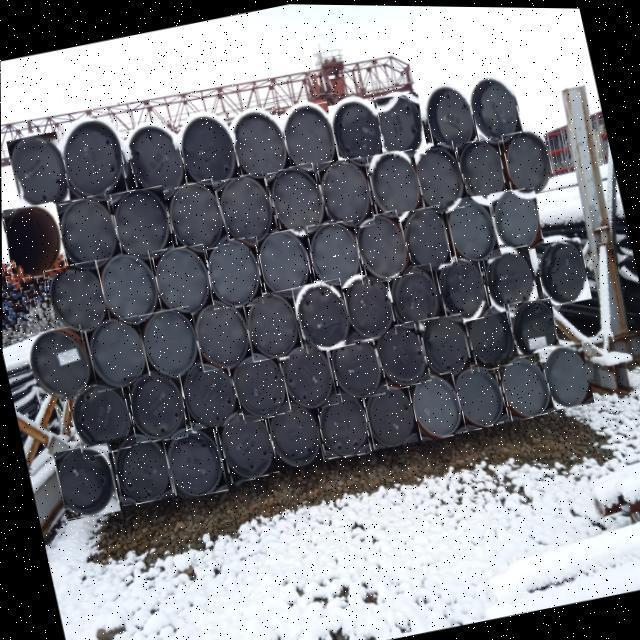pipe: (59, 117, 128, 204), (6, 130, 76, 215), (51, 193, 123, 274), (65, 378, 137, 458), (23, 324, 94, 402), (122, 119, 189, 199), (226, 105, 293, 185), (161, 177, 229, 255), (43, 259, 110, 338), (175, 111, 240, 192), (264, 161, 330, 239), (95, 250, 162, 326), (214, 170, 279, 248), (226, 347, 293, 422), (161, 423, 227, 499), (53, 443, 119, 519), (84, 315, 150, 391), (109, 185, 174, 262), (137, 305, 202, 379), (214, 407, 278, 482), (2, 204, 65, 280), (350, 208, 413, 283), (291, 277, 354, 352), (190, 297, 253, 371), (110, 432, 173, 505), (177, 357, 239, 430), (152, 243, 214, 316), (409, 140, 470, 214), (280, 101, 340, 175), (277, 340, 338, 412), (126, 369, 186, 442), (242, 288, 302, 360), (449, 359, 509, 430), (406, 369, 466, 440), (371, 319, 431, 389), (433, 251, 491, 323), (443, 192, 501, 264), (326, 329, 384, 401), (317, 157, 374, 230), (481, 243, 540, 313), (465, 72, 523, 143), (366, 148, 424, 219), (385, 261, 443, 332), (255, 227, 313, 298), (205, 236, 263, 307), (328, 96, 385, 168), (421, 80, 478, 152), (495, 351, 554, 420), (265, 399, 323, 469), (306, 220, 362, 290), (462, 302, 519, 370), (360, 379, 417, 447), (534, 236, 590, 305), (341, 271, 396, 340), (315, 390, 370, 458), (501, 127, 555, 196), (399, 203, 452, 273), (418, 312, 472, 379), (539, 341, 592, 408), (489, 187, 542, 252), (456, 136, 506, 203), (376, 93, 426, 159), (508, 297, 558, 357), (5, 276, 11, 283), (9, 277, 14, 284), (41, 317, 46, 323), (49, 312, 54, 318), (45, 307, 50, 313), (7, 327, 12, 333), (2, 334, 7, 340), (44, 297, 49, 303), (12, 288, 17, 294), (15, 282, 19, 289), (25, 314, 30, 319), (7, 301, 12, 306), (5, 296, 10, 301), (11, 262, 16, 267), (23, 277, 28, 282), (36, 290, 41, 295), (41, 323, 45, 329), (33, 324, 37, 330), (17, 331, 21, 337), (15, 302, 19, 308), (46, 279, 50, 285), (33, 291, 37, 297), (49, 321, 53, 326), (50, 319, 54, 324), (51, 317, 55, 322), (46, 314, 50, 319), (38, 313, 42, 318), (38, 308, 42, 313), (36, 299, 40, 304), (42, 292, 46, 297), (22, 320, 26, 325), (17, 317, 21, 322), (13, 334, 18, 338), (10, 335, 14, 340), (12, 330, 16, 335), (5, 331, 10, 335), (6, 339, 10, 344), (2, 329, 6, 334), (2, 307, 6, 312), (9, 308, 13, 313), (3, 300, 7, 305), (9, 291, 14, 295), (12, 294, 16, 299), (43, 285, 47, 290), (30, 284, 34, 289), (6, 282, 10, 287), (17, 277, 22, 281), (36, 278, 40, 283), (38, 326, 41, 332), (46, 325, 50, 329), (43, 310, 47, 314), (36, 305, 40, 309), (56, 319, 60, 323), (28, 324, 32, 328), (24, 326, 28, 330), (19, 324, 23, 328), (19, 329, 23, 333), (20, 335, 24, 339), (7, 315, 11, 319), (11, 313, 15, 317), (23, 314, 27, 318), (32, 307, 36, 311), (25, 305, 29, 309), (5, 305, 9, 309), (17, 300, 21, 304), (22, 301, 26, 305), (29, 304, 33, 308), (3, 290, 7, 294), (26, 291, 30, 295), (19, 268, 23, 272), (26, 295, 30, 299), (6, 292, 10, 296), (50, 308, 53, 313), (35, 309, 38, 314), (39, 299, 42, 304), (27, 320, 30, 325), (25, 329, 30, 332), (23, 332, 26, 337), (15, 324, 18, 329), (9, 319, 12, 324), (30, 311, 33, 316), (33, 287, 36, 292), (47, 284, 50, 289), (11, 274, 14, 279), (2, 262, 5, 267), (7, 268, 10, 273), (35, 329, 38, 333), (39, 320, 42, 324), (52, 323, 55, 327), (42, 303, 46, 306), (33, 297, 36, 301), (32, 316, 35, 320), (30, 322, 33, 326), (30, 328, 33, 332), (2, 338, 5, 342), (5, 324, 8, 328), (20, 312, 23, 316), (11, 304, 14, 308), (21, 297, 25, 300), (26, 300, 30, 303), (23, 291, 27, 294), (20, 273, 23, 277), (39, 281, 43, 284), (43, 277, 47, 280), (44, 281, 47, 285), (10, 339, 14, 342), (3, 267, 6, 271), (48, 299, 51, 303), (47, 294, 50, 298), (40, 290, 44, 293), (40, 294, 43, 298), (20, 288, 23, 292), (9, 310, 12, 314), (29, 308, 32, 312), (2, 280, 4, 285), (34, 320, 37, 323), (17, 321, 20, 324), (19, 305, 22, 308), (29, 299, 32, 302), (39, 286, 42, 289), (12, 284, 15, 287), (28, 275, 31, 278), (55, 320, 58, 323), (29, 333, 32, 336), (2, 293, 5, 296), (30, 318, 33, 321), (43, 322, 47, 324), (36, 323, 38, 327), (37, 296, 39, 300), (5, 314, 7, 318), (2, 297, 4, 301), (17, 292, 19, 296), (29, 290, 31, 294), (6, 288, 8, 292), (60, 322, 62, 326), (18, 339, 22, 341), (19, 274, 21, 278), (49, 304, 51, 308), (30, 294, 32, 298), (2, 286, 4, 290), (34, 302, 36, 305), (56, 325, 59, 327), (14, 339, 16, 342), (6, 343, 9, 345), (2, 345, 5, 347), (3, 285, 5, 288), (2, 270, 3, 275), (2, 320, 3, 324), (17, 313, 19, 315), (50, 278, 51, 281), (48, 276, 49, 278), (27, 336, 29, 336)
